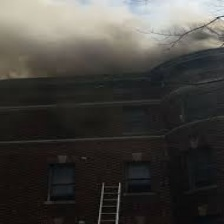smoke: (3, 3, 151, 71)
